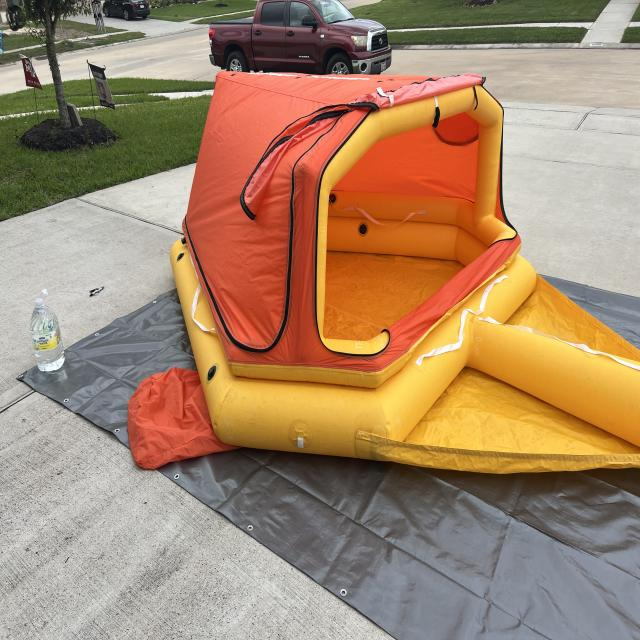Multi-person_life_raft: (127, 70, 640, 471)
